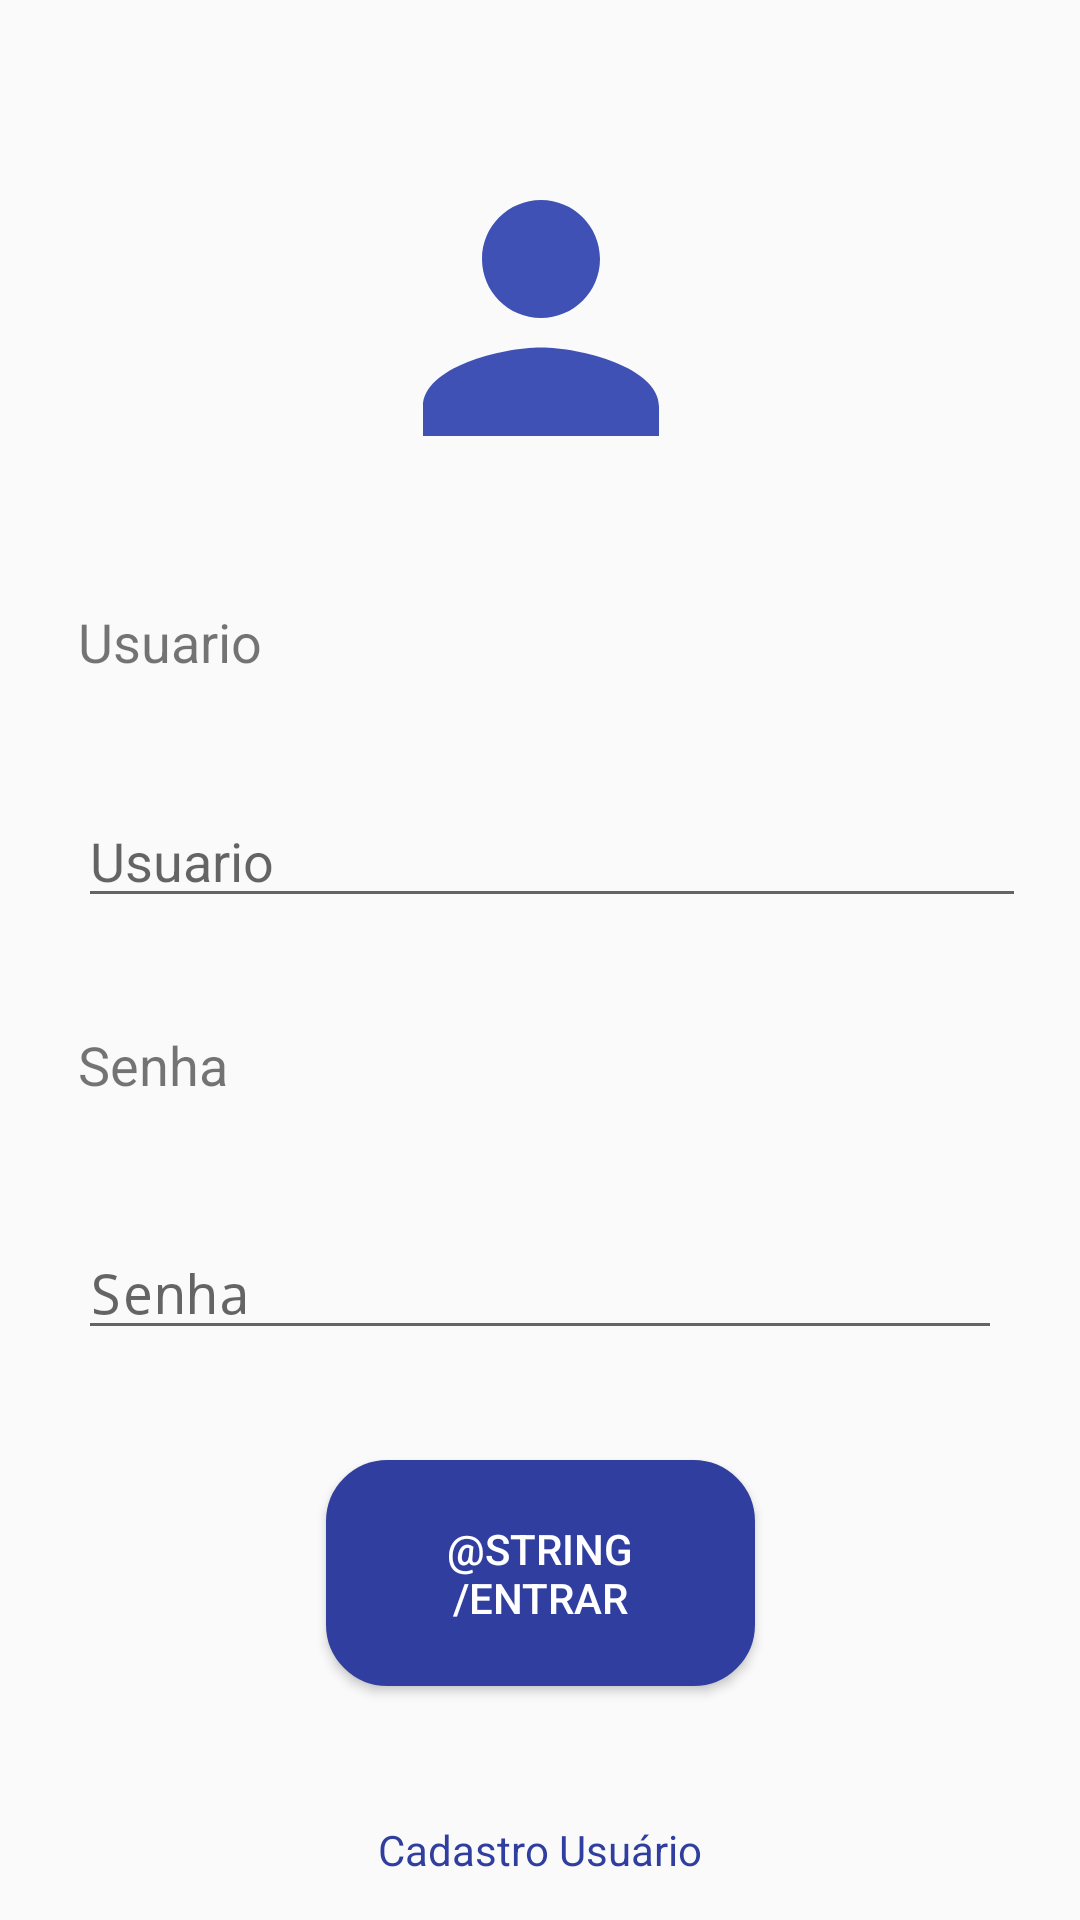

Where icons sit on this 1080x1920 app screen, as (x1, y1, x2, y2):
person: (423, 200, 659, 436)
